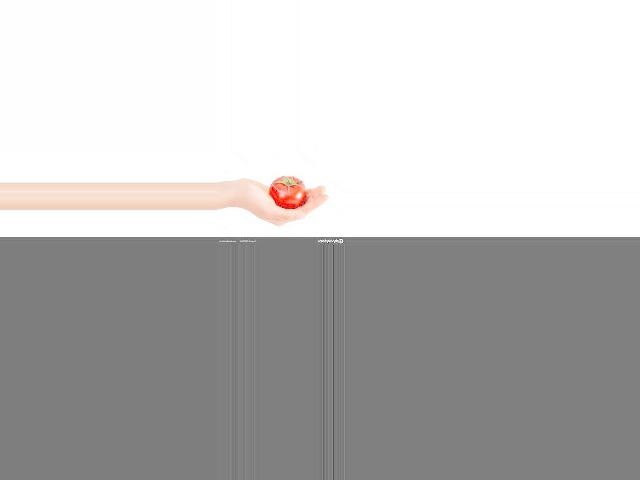tomato: (268, 176, 304, 208)
